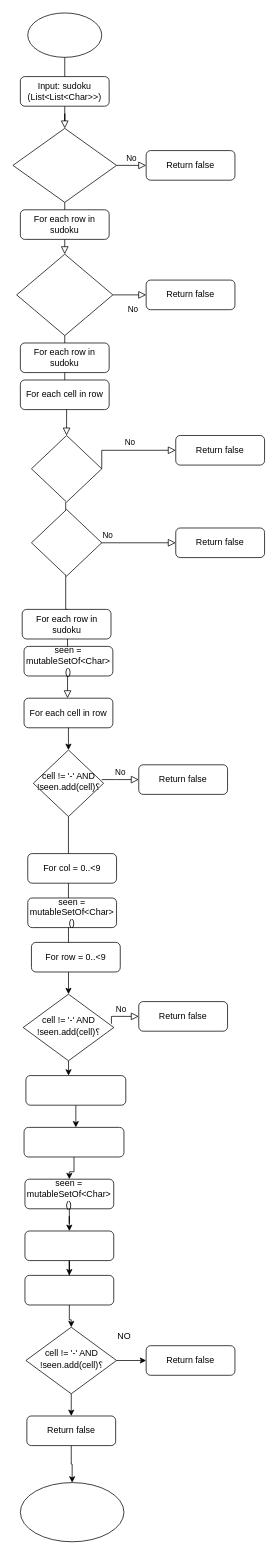
This 278x1555 diagram has some shape labels left out. The shapes that lost their labels are listed below. From the top down, each one's centre as x and y in pixels, then its label:
At point 64,34: "Start".
At point 64,165: "sudoku.size == 9؟".
At point 64,294: "row.size == 9؟".
At point 66,468: "cell == '-' OR cell in '1'..'9'؟".
At point 66,542: "cell == ' '؟".
At point 75,1090: "For subgridRow = 0..<3".
At point 73,1142: "For subgridCol = 0..<3".
At point 69,1245: "For row = subgridRow 3..<subgridRow+1 3".
At point 69,1290: "For col = subgridCol 3..<subgridCol+1 3".
At point 72,1512: "End".
